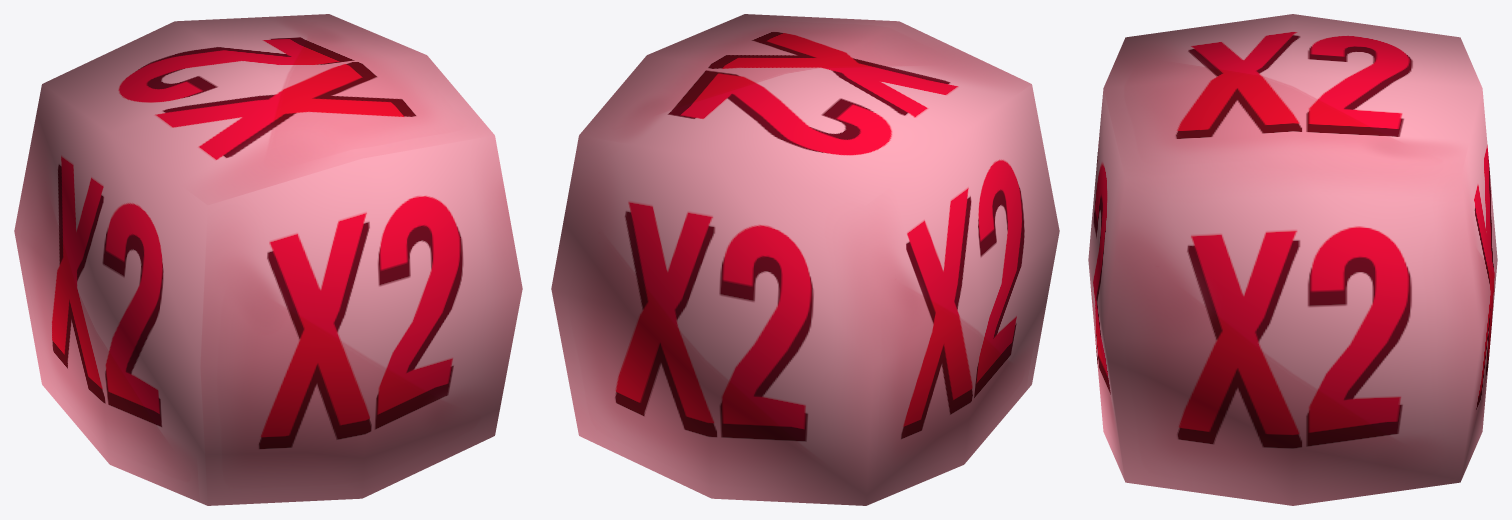
Rendered from DoubleDice.fbx.
3 views of the same model, side by side, from view 1: azimuth 30°, elevation 25°; view 2: azimuth 150°, elevation 25°; view 3: azimuth 270°, elevation 25° (orthographic).
Visible parts, largest first — view 1: Cube; view 2: Cube; view 3: Cube.
Boxes of the visible parts, x1,y1,x2,y2 form: Cube: [14, 14, 522, 505]; Cube: [551, 14, 1059, 505]; Cube: [1088, 14, 1497, 505].
Size of the model in its own units: 121 by 121 by 121.
1 material, 1 textured.
